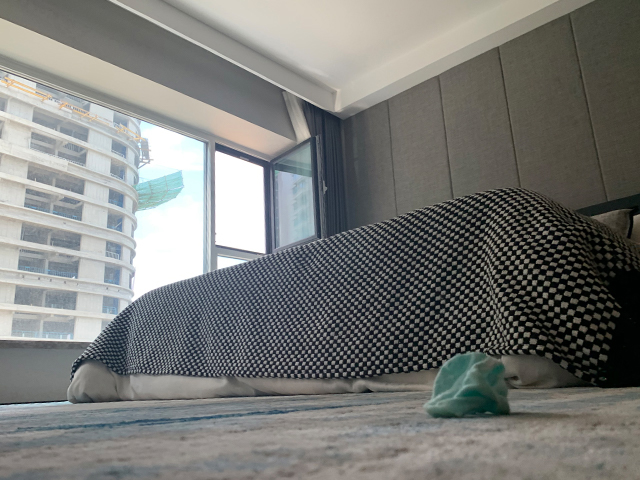bed: (63, 184, 640, 406)
carpet: (1, 384, 640, 480)
socks: (421, 350, 512, 421)
